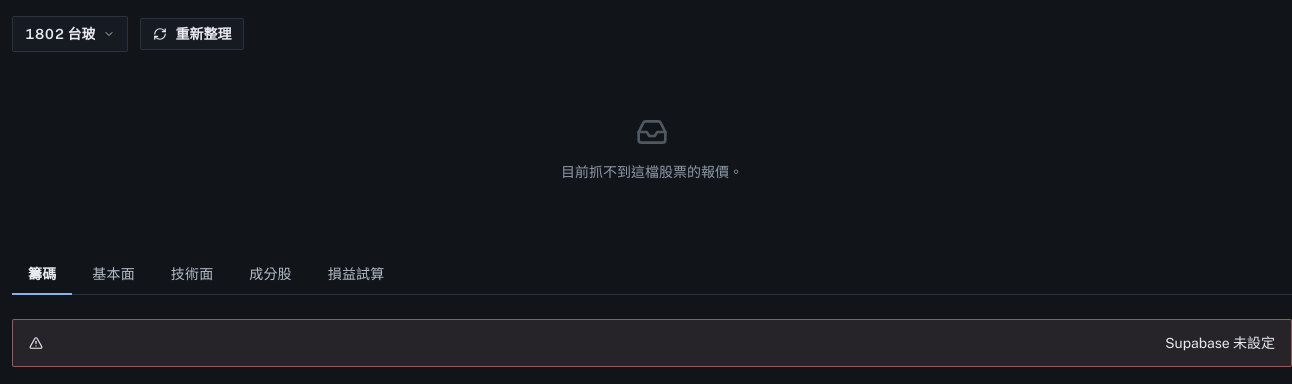
AnalysisPage › 觸發鈕顯示目前這一檔，選單以 menuitemradio 標示選中項
Click the button with aria-label "切換個股".
click(70, 34)  # box [12, 16, 128, 52]
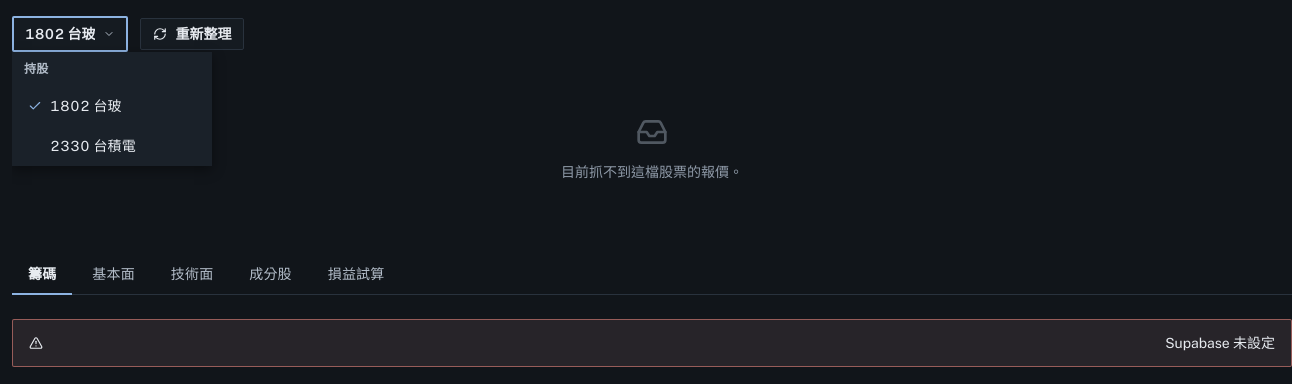
Result: the menu item "1802 台玻" is shown at [12, 86, 212, 126]
